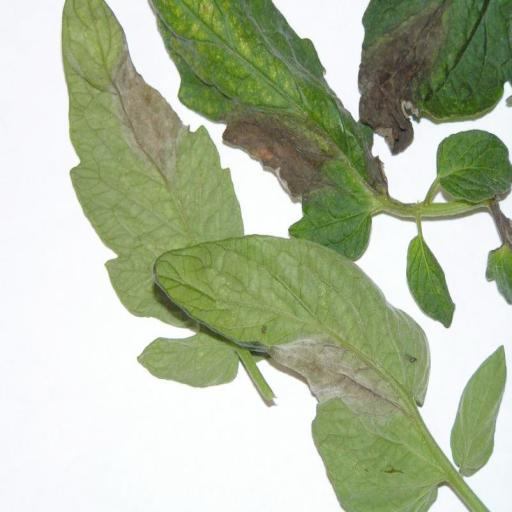disease_tomato: (52, 2, 268, 382), (156, 226, 446, 506), (144, 2, 384, 252), (354, 0, 512, 152)
